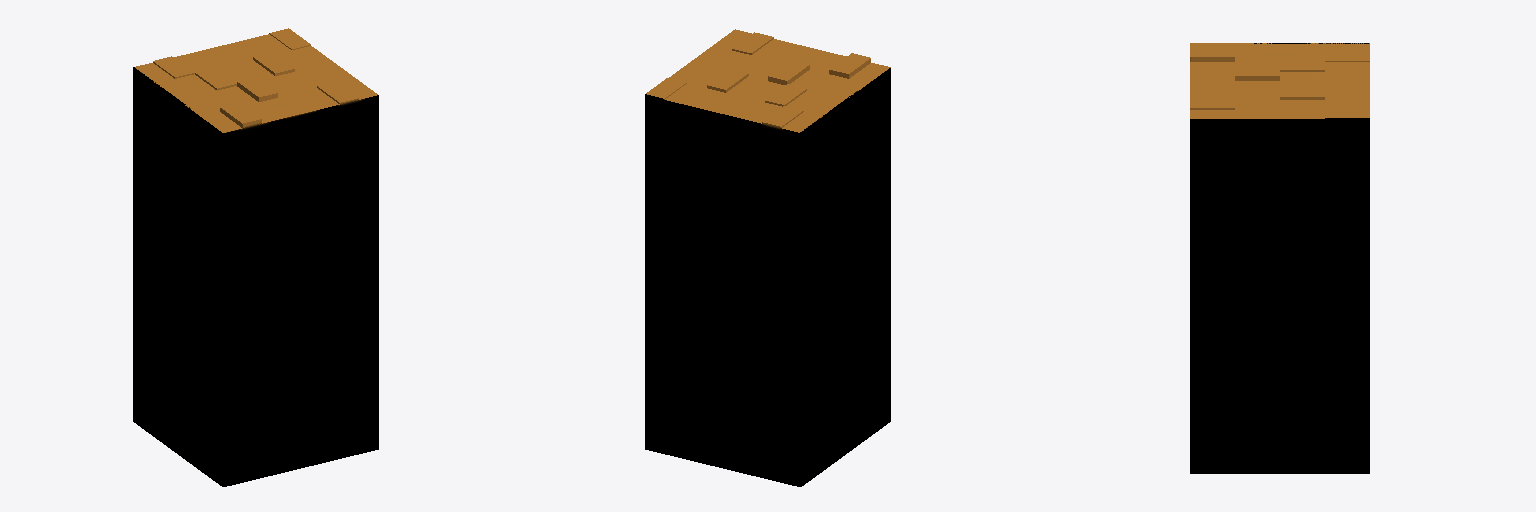
3 views of the same model, side by side, from view 1: azimuth 30°, elevation 25°; view 2: azimuth 150°, elevation 25°; view 3: azimuth 270°, elevation 25° (orthographic).
Visible parts, largest first — view 1: Cube; view 2: Cube; view 3: Cube.
Boxes of the visible parts, <box> form: Cube: <box>133,28,378,486</box>; Cube: <box>645,29,890,486</box>; Cube: <box>1190,43,1369,473</box>.
Size of the model in its own units: 2 by 4.41 by 2.
Materials: 1 (1 with a texture image).